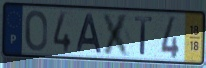4: (159, 14, 181, 60), (52, 10, 73, 55)
A: (75, 13, 104, 55)
O: (24, 9, 49, 53)
T: (133, 15, 154, 57)
X: (101, 11, 132, 58)
